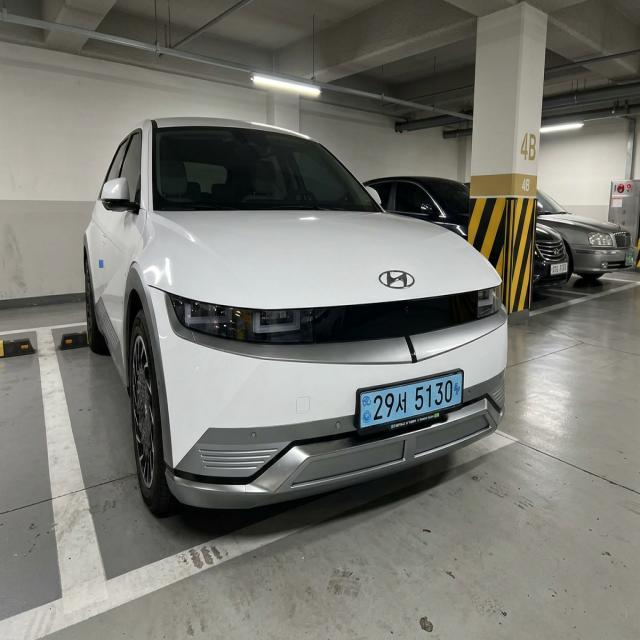car: (347, 357, 473, 444)
carev: (359, 390, 374, 430), (450, 374, 465, 412)
